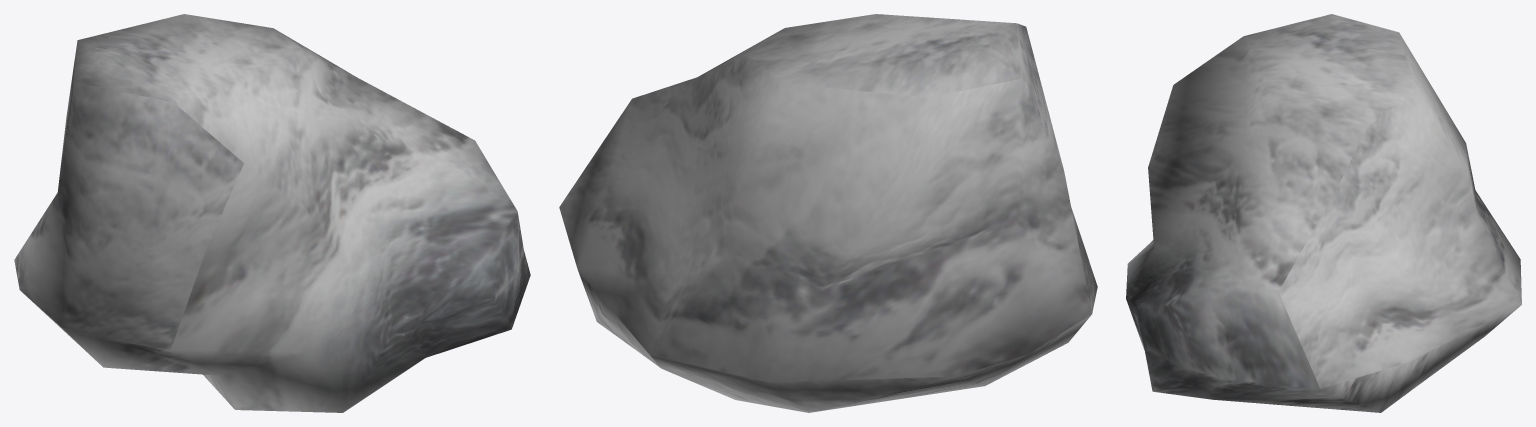
File: snow_d_a07a.fbx
3 renders of one model, left to right at view 1: azimuth 30°, elevation 25°; view 2: azimuth 150°, elevation 25°; view 3: azimuth 270°, elevation 25°, orthographic. The views are drawn at different scales.
Parts seen in each view (by area): view 1: d_a07a; view 2: d_a07a; view 3: d_a07a.
Part boxes in pixels (x1=…): d_a07a: x1=14, y1=14, x2=530, y2=412; d_a07a: x1=559, y1=14, x2=1097, y2=412; d_a07a: x1=1126, y1=14, x2=1521, y2=412.
Bounding box in the file's own units: 334 × 229 × 286.
